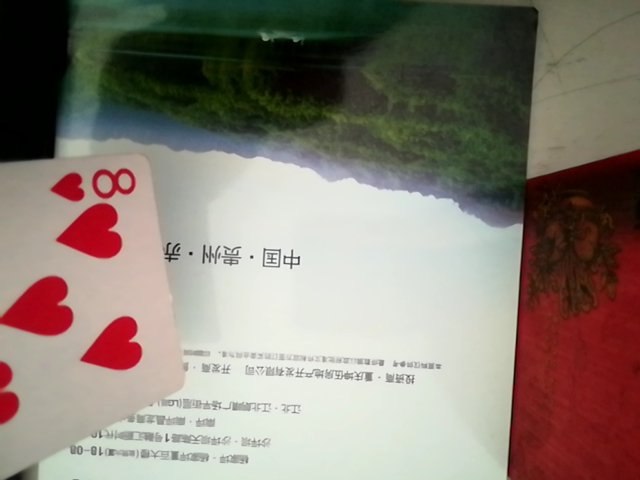hx 8: (1, 150, 182, 468)
